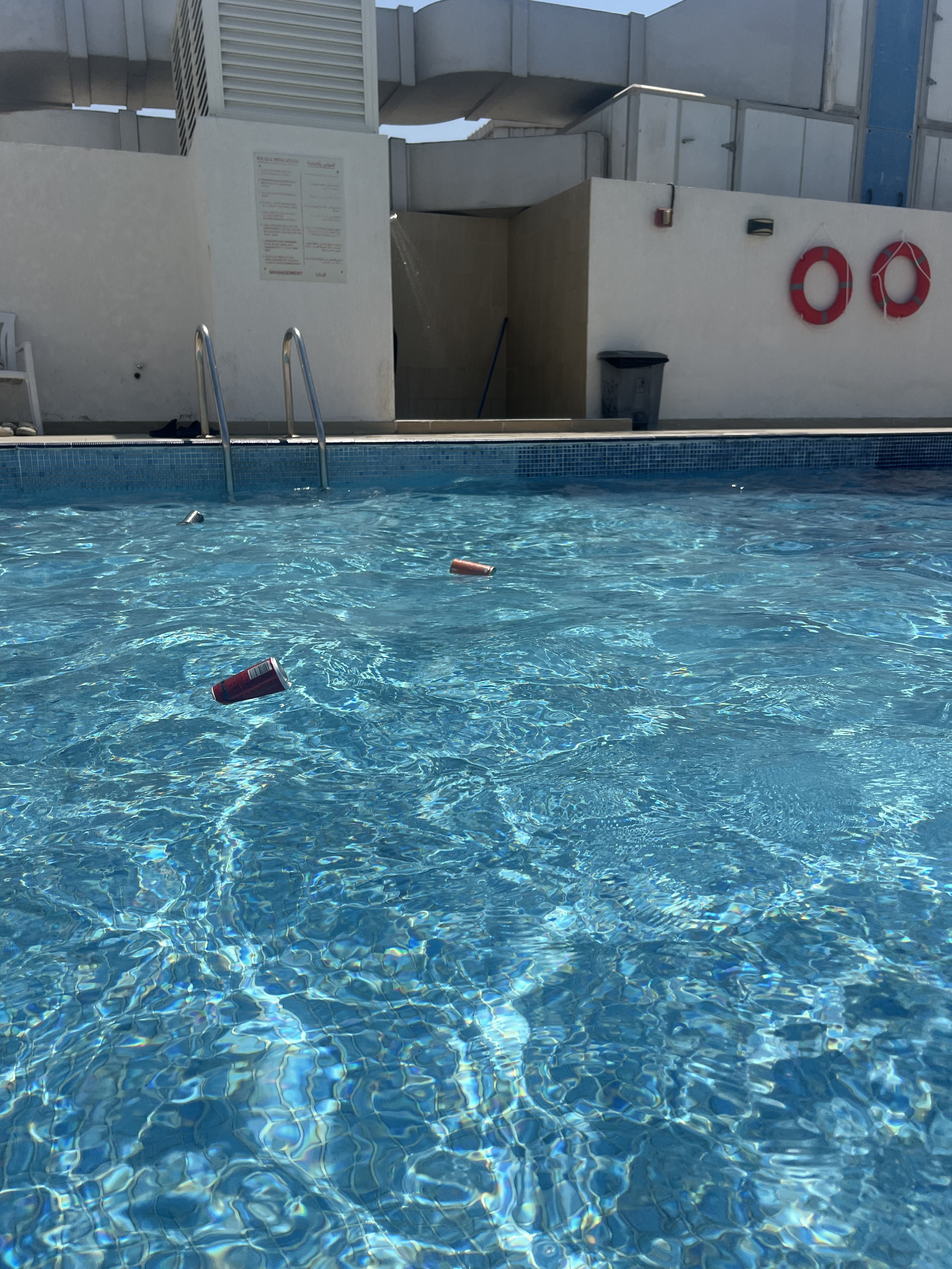debris: (207, 645, 288, 726), (443, 536, 497, 603), (178, 498, 204, 544)
